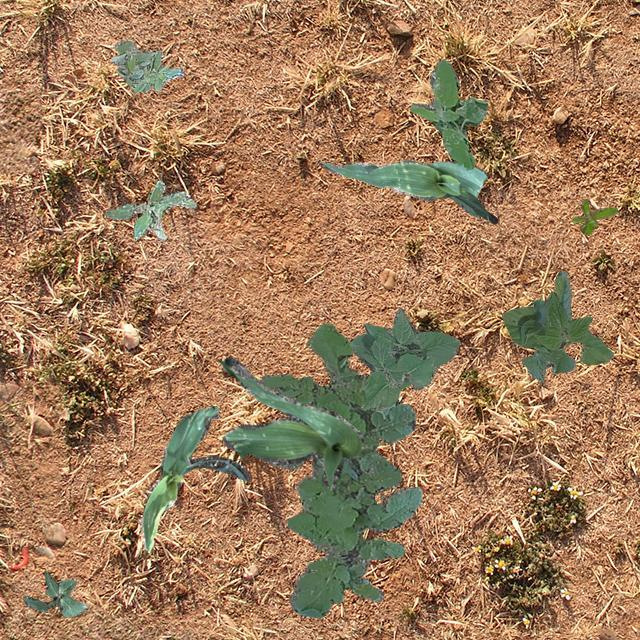crop: (217, 356, 371, 489), (138, 404, 250, 552), (502, 269, 612, 382), (318, 158, 496, 222), (348, 306, 458, 409), (22, 570, 86, 616)
weed: (260, 322, 420, 618), (408, 58, 486, 168), (104, 180, 196, 240), (110, 38, 182, 92), (572, 198, 616, 234)
